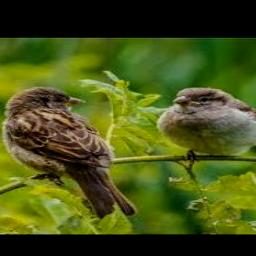Sparrow: (3, 86, 138, 218), (157, 88, 256, 166)
